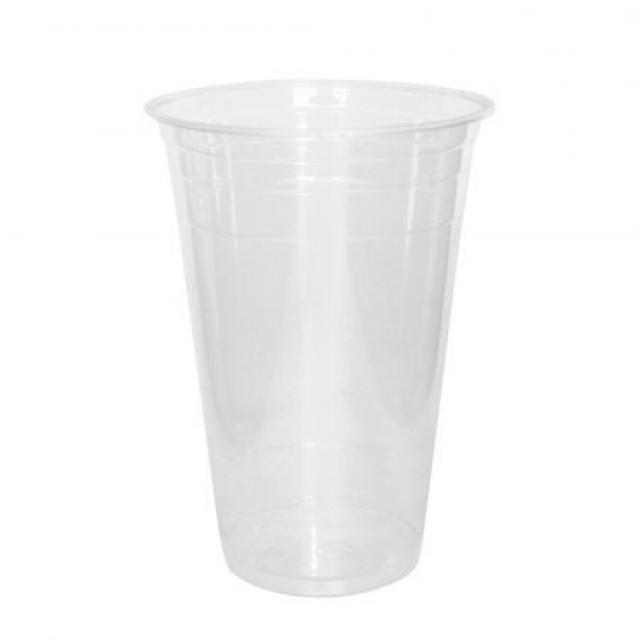Plastic: (145, 64, 498, 599)
